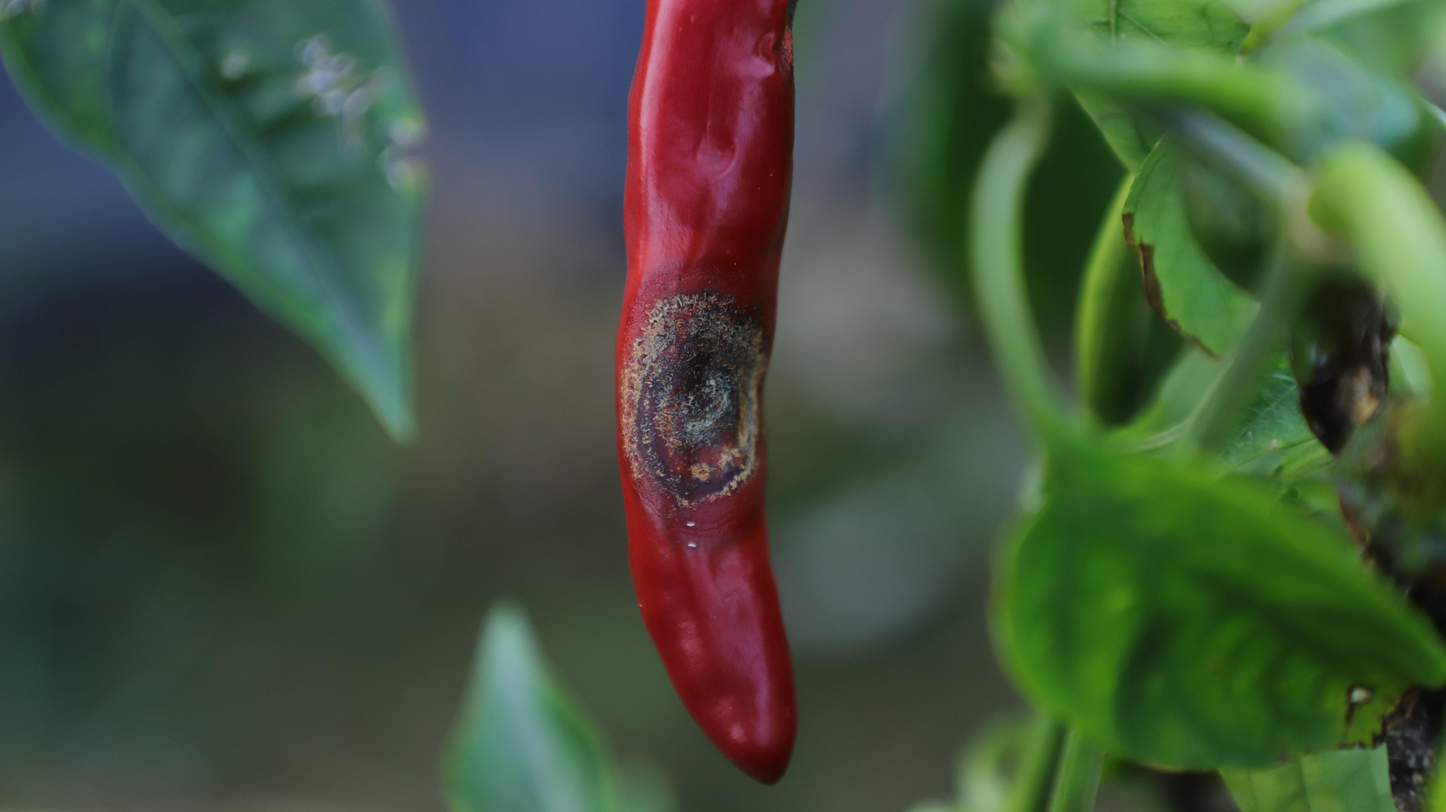Busuk Buah Antraknosa: (611, 2, 803, 787)
